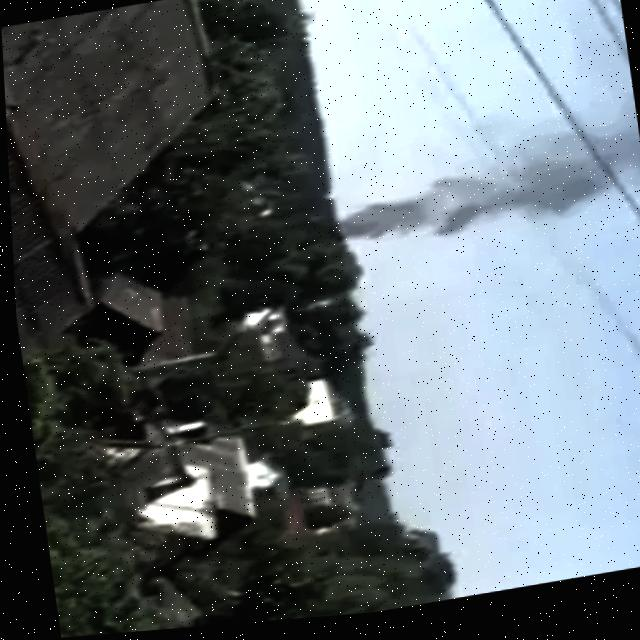Smoke: (324, 119, 640, 263)
